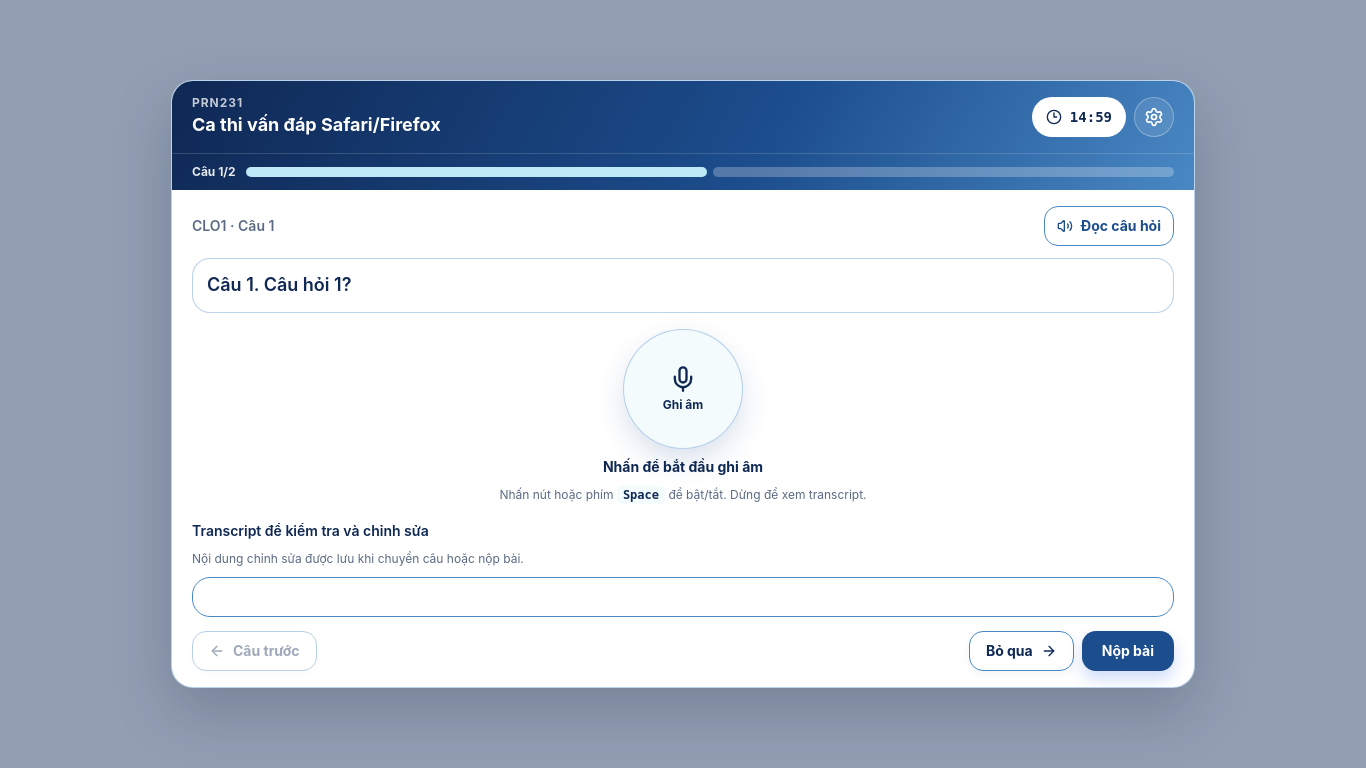
Test: InClassExamSessionPage M2 cross-device fallback & question images › locks navigation and submit while getUserMedia is pending and cancels acquired stream on unmount
Click the button with aria-label "Bắt đầu ghi âm" at (683,388), box x1=623 y1=328 x2=743 y2=448
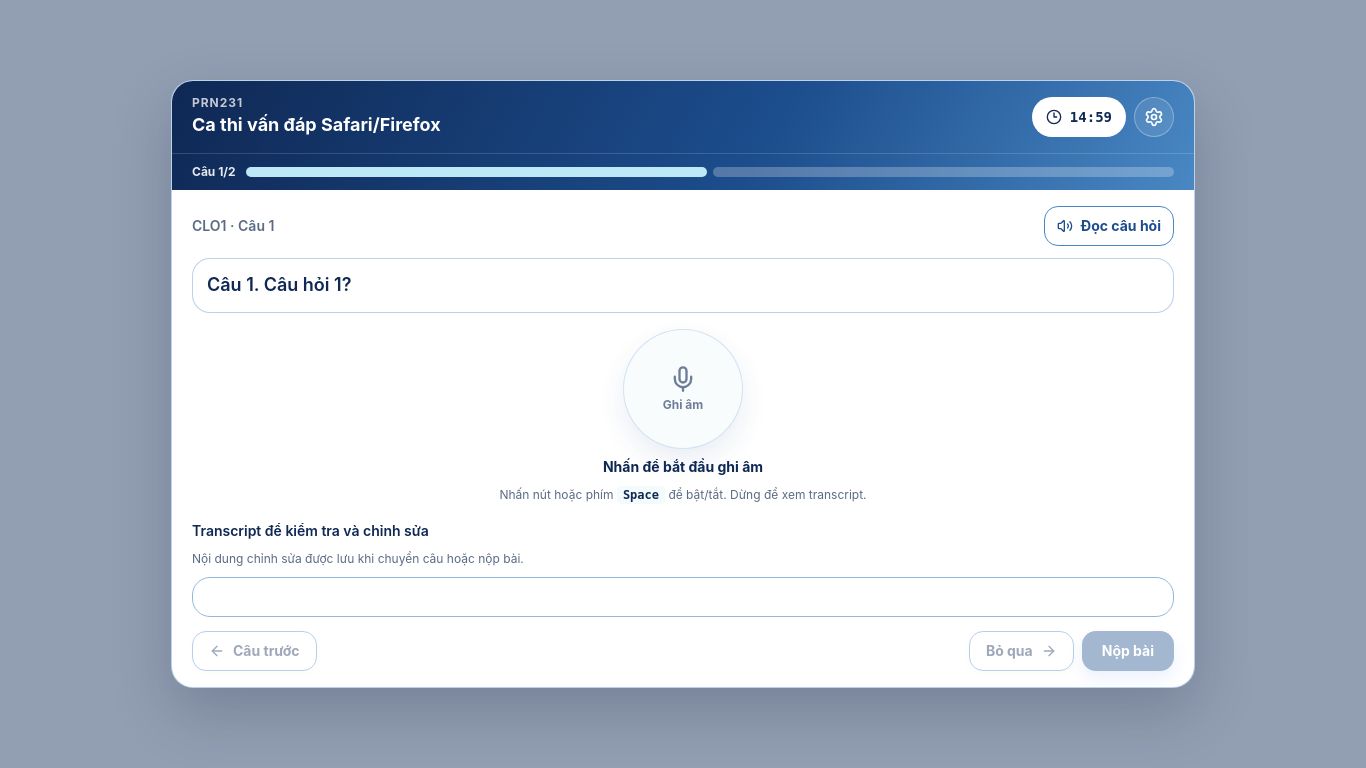
Check: the button named "Chuyển tới câu 2" is disabled, box x1=713 y1=167 x2=1174 y2=177
Check: the button "Nộp bài" is disabled, box x1=1082 y1=631 x2=1174 y2=671
Check: the button "Bỏ qua" is disabled, box x1=969 y1=631 x2=1074 y2=671
